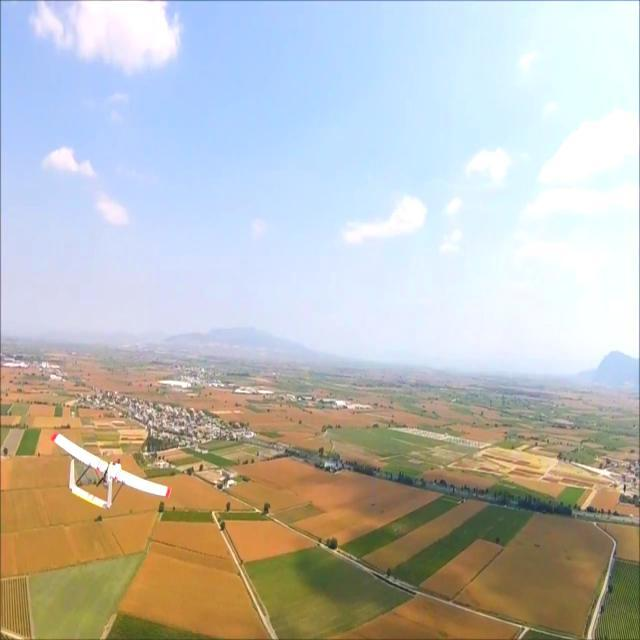iha: (0, 453, 112, 498)
